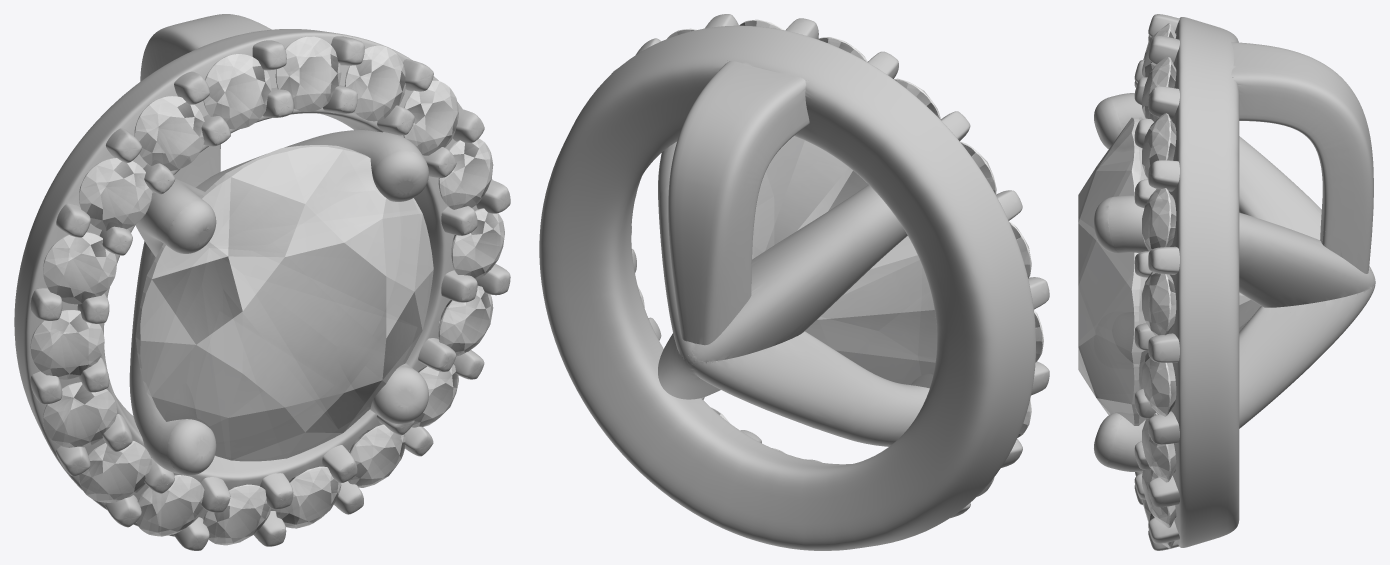
The model's file is Charm Type 3.glb.
The picture shows the model from 3 angles, left to right: view 1: azimuth 30°, elevation 25°; view 2: azimuth 150°, elevation 25°; view 3: azimuth 270°, elevation 25°; orthographic projection. The views are drawn at different scales.
Visible parts, largest first — view 1: Object_6.001, Object_2.004, Object_2.005; view 2: Object_6.001, Object_2.004, Object_2.005; view 3: Object_6.001, Object_2.004, Object_2.005.
Boxes of the visible parts, x1,y1,x2,y2 form: Object_6.001: (14,14,510,550); Object_2.004: (135,145,433,461); Object_2.005: (30,36,504,545); Object_6.001: (539,14,1049,550); Object_2.004: (752,136,936,427); Object_2.005: (611,19,1043,496); Object_6.001: (1094,14,1375,550); Object_2.004: (1078,117,1260,425); Object_2.005: (1142,23,1176,548).
Bounding box in the file's own units: 0.8094 × 0.816 × 0.4502.
Materials: 2 (1 with a texture image).
